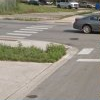crosswalk: (0, 24, 55, 38), (76, 46, 100, 55)
